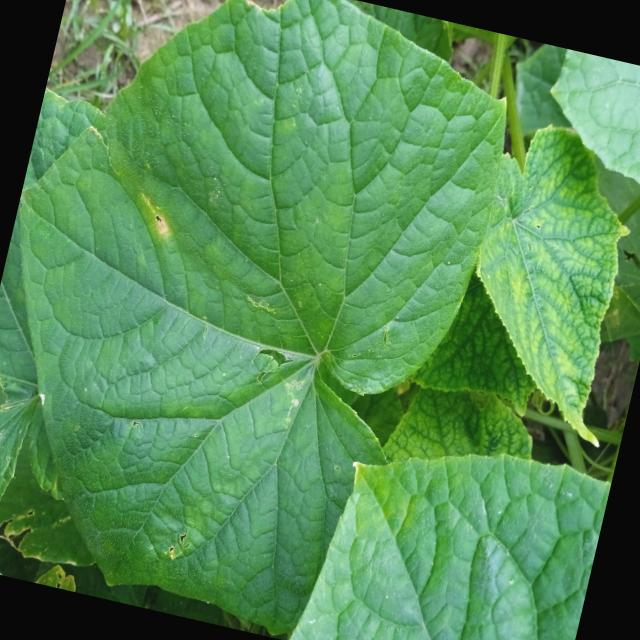cucumber_healthy: (0, 0, 528, 640), (287, 407, 612, 640), (429, 109, 640, 456), (521, 43, 640, 165)
